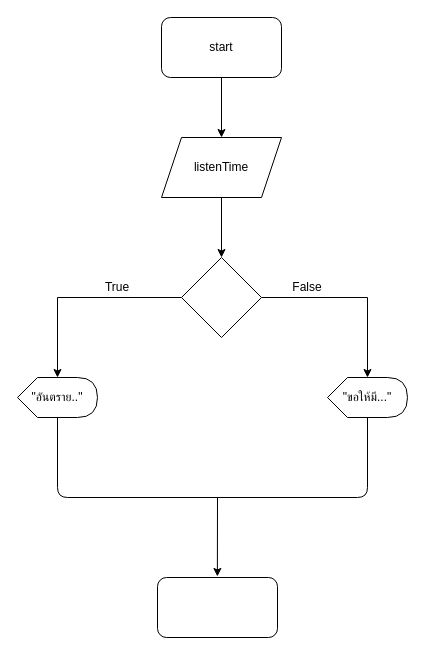
Image size: 425x655. Some labels were removed from this diagram. The shapes that lost their labels are listed below. From the top down, each one's centre as x and y in pixels, then its label:
the point at 221,297: listenTime > 4
the point at 217,607: End
